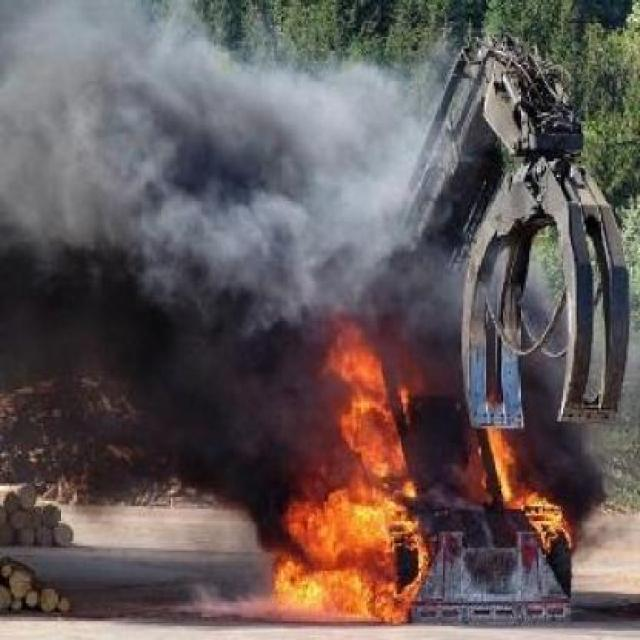Fire: (234, 295, 559, 640)
Smoke: (27, 5, 378, 280)
